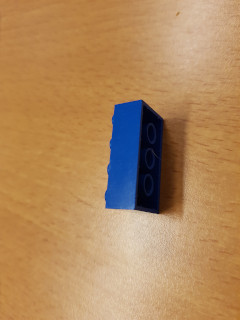2x4 blue: (100, 97, 168, 216)
